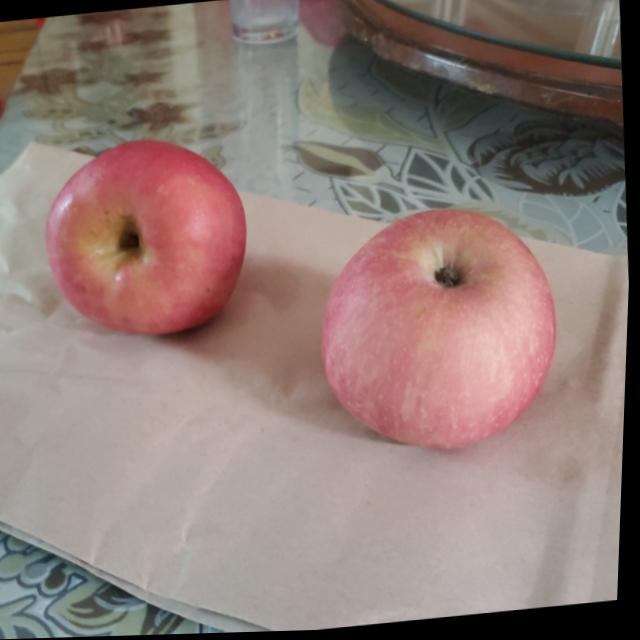apple: (308, 197, 566, 462), (39, 134, 260, 348)
